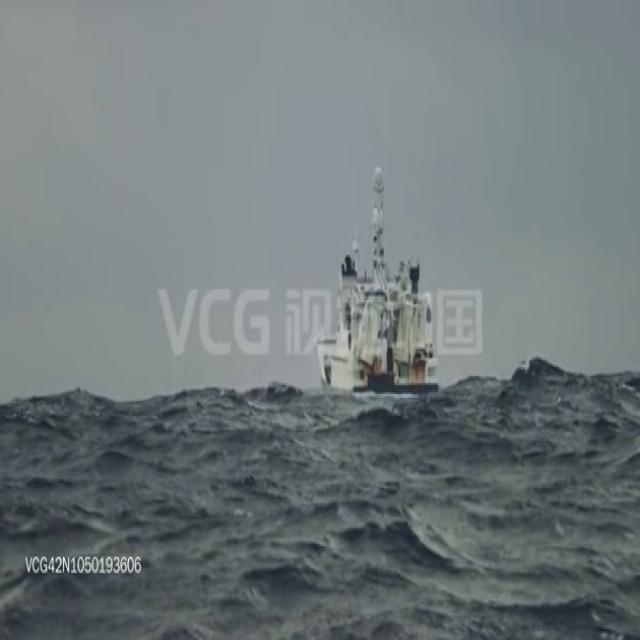houseboat: (314, 179, 434, 392)
